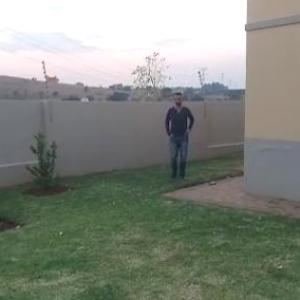follow: (165, 90, 196, 182)
